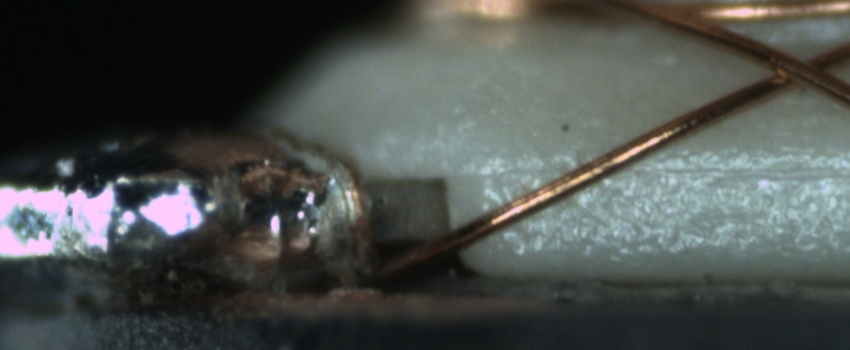CL: (753, 42, 844, 96)
DL: (480, 139, 850, 203)
